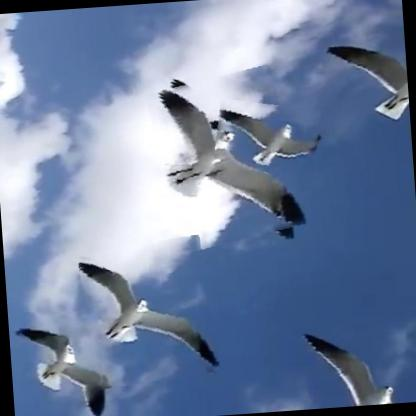bird: (149, 67, 302, 250), (78, 237, 218, 389), (13, 307, 105, 416), (327, 34, 412, 139), (298, 319, 395, 410), (211, 97, 322, 174)
